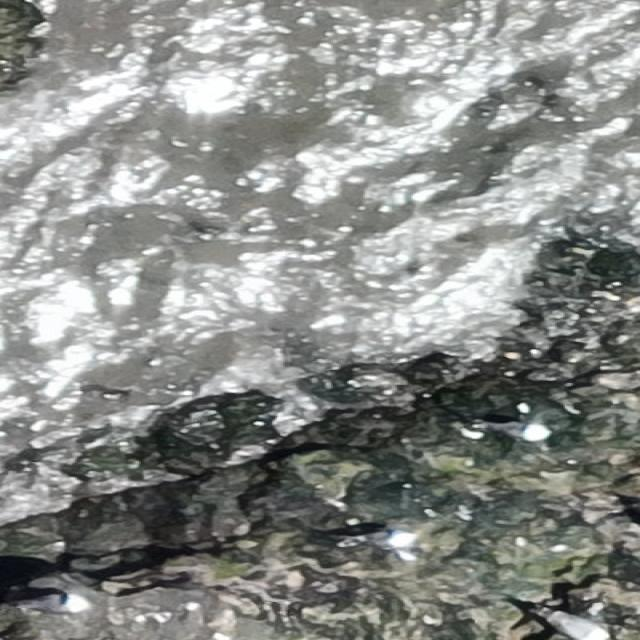umineko: (544, 609, 610, 639), (472, 417, 551, 441), (15, 594, 91, 612), (347, 530, 416, 547)
